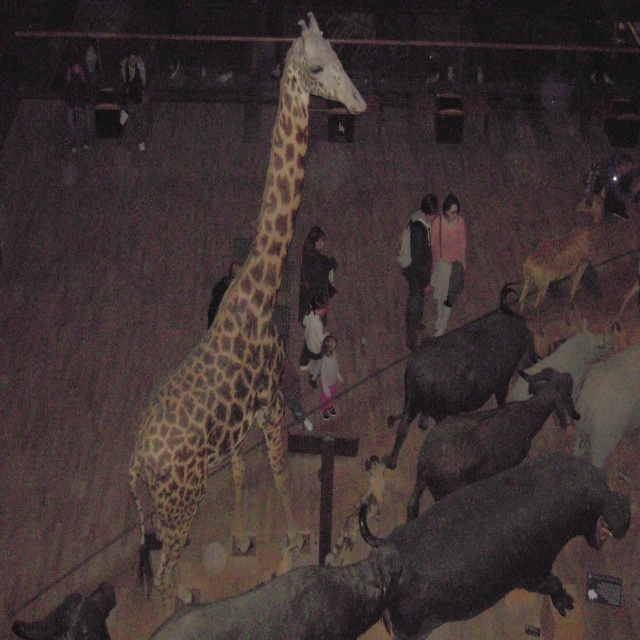Giraffe: (128, 10, 368, 625)
